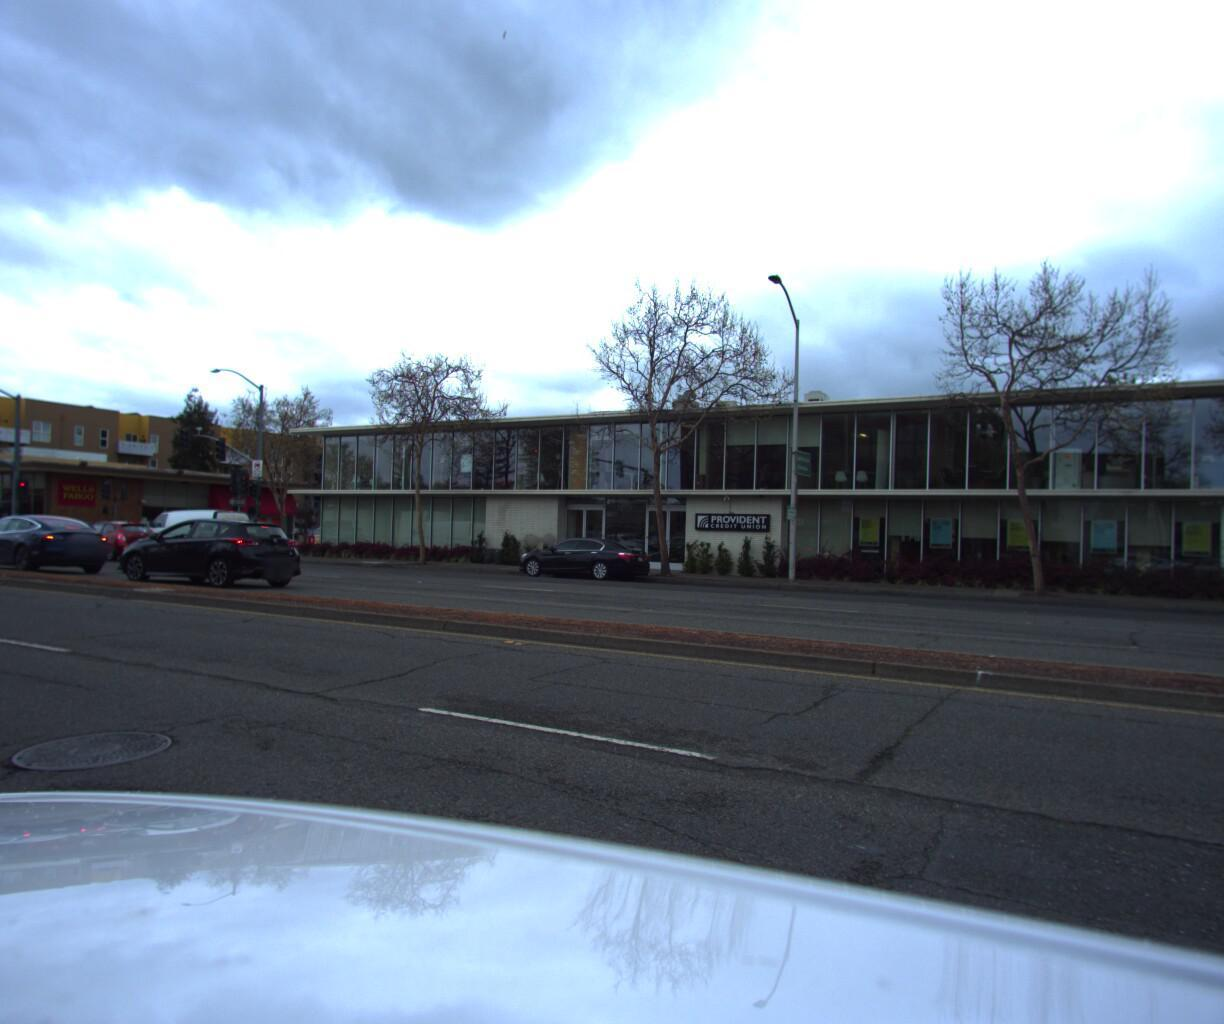car: (95, 522, 309, 610), (504, 541, 656, 600), (0, 515, 124, 579), (137, 513, 261, 565), (63, 524, 178, 568)
